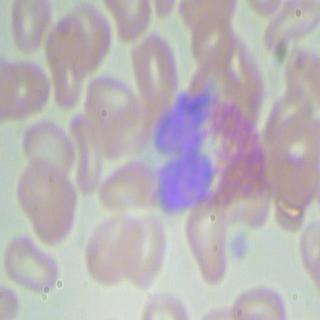Platelets: (230, 230, 250, 262)
RBC: (14, 154, 81, 248), (178, 200, 235, 284), (272, 110, 320, 202), (115, 212, 173, 288), (80, 212, 137, 288), (130, 30, 181, 104), (2, 236, 59, 300), (97, 150, 156, 210), (19, 116, 76, 178), (65, 2, 114, 74), (47, 28, 85, 116), (84, 68, 139, 126), (1, 58, 53, 118), (69, 112, 103, 198), (191, 10, 235, 66), (228, 280, 288, 320), (11, 0, 52, 52)
WBC: (153, 84, 268, 218)
